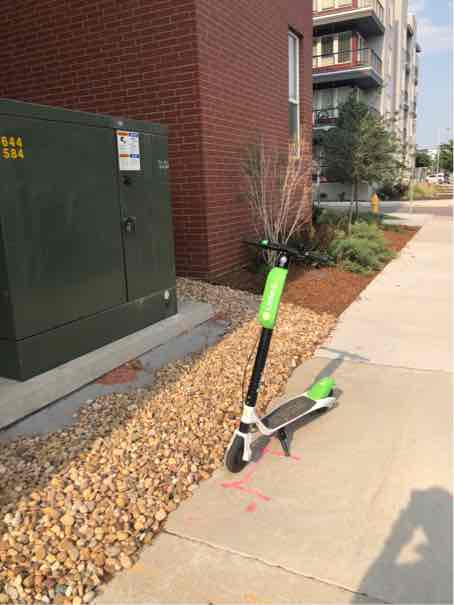scooter: (216, 225, 372, 486)
